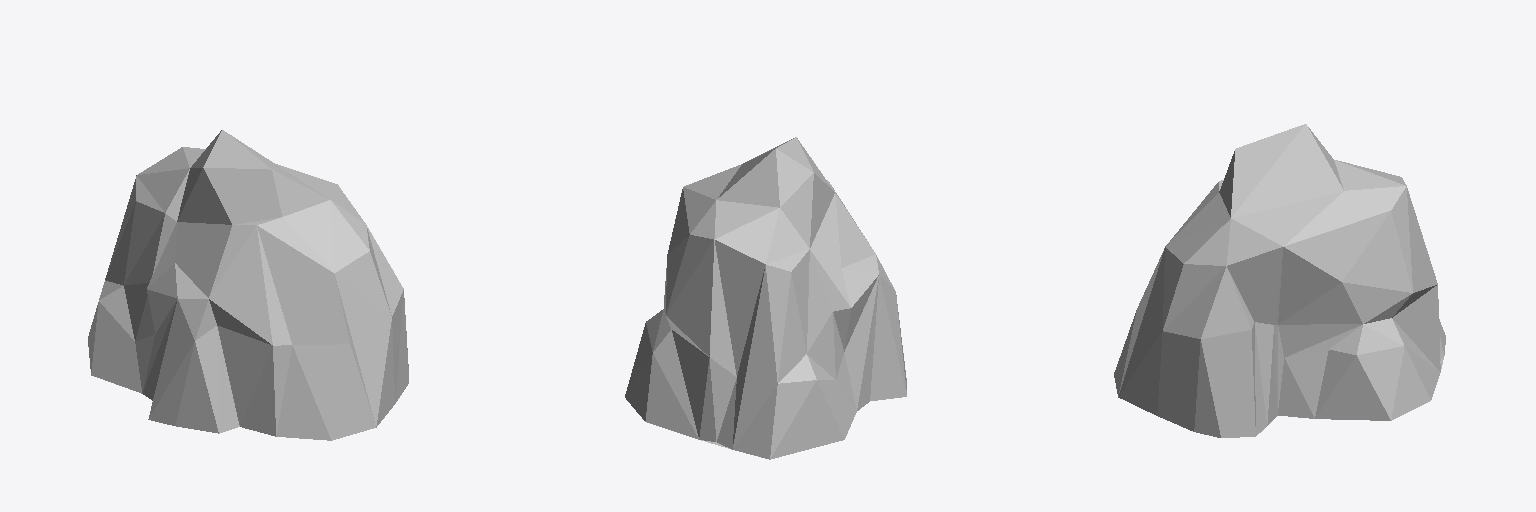
File: rock_001_LOD2.obj
3 renders of one model, left to right at view 1: azimuth 30°, elevation 25°; view 2: azimuth 150°, elevation 25°; view 3: azimuth 270°, elevation 25°, orthographic.
Visible parts, largest first — view 1: rock_001_LOD2 rock_001; view 2: rock_001_LOD2 rock_001; view 3: rock_001_LOD2 rock_001.
Part boxes in pixels (bbox=[...]): rock_001_LOD2 rock_001: bbox=[88, 130, 408, 440]; rock_001_LOD2 rock_001: bbox=[625, 137, 906, 459]; rock_001_LOD2 rock_001: bbox=[1114, 124, 1445, 437].
Size of the model in its own units: 934 by 883 by 1089.